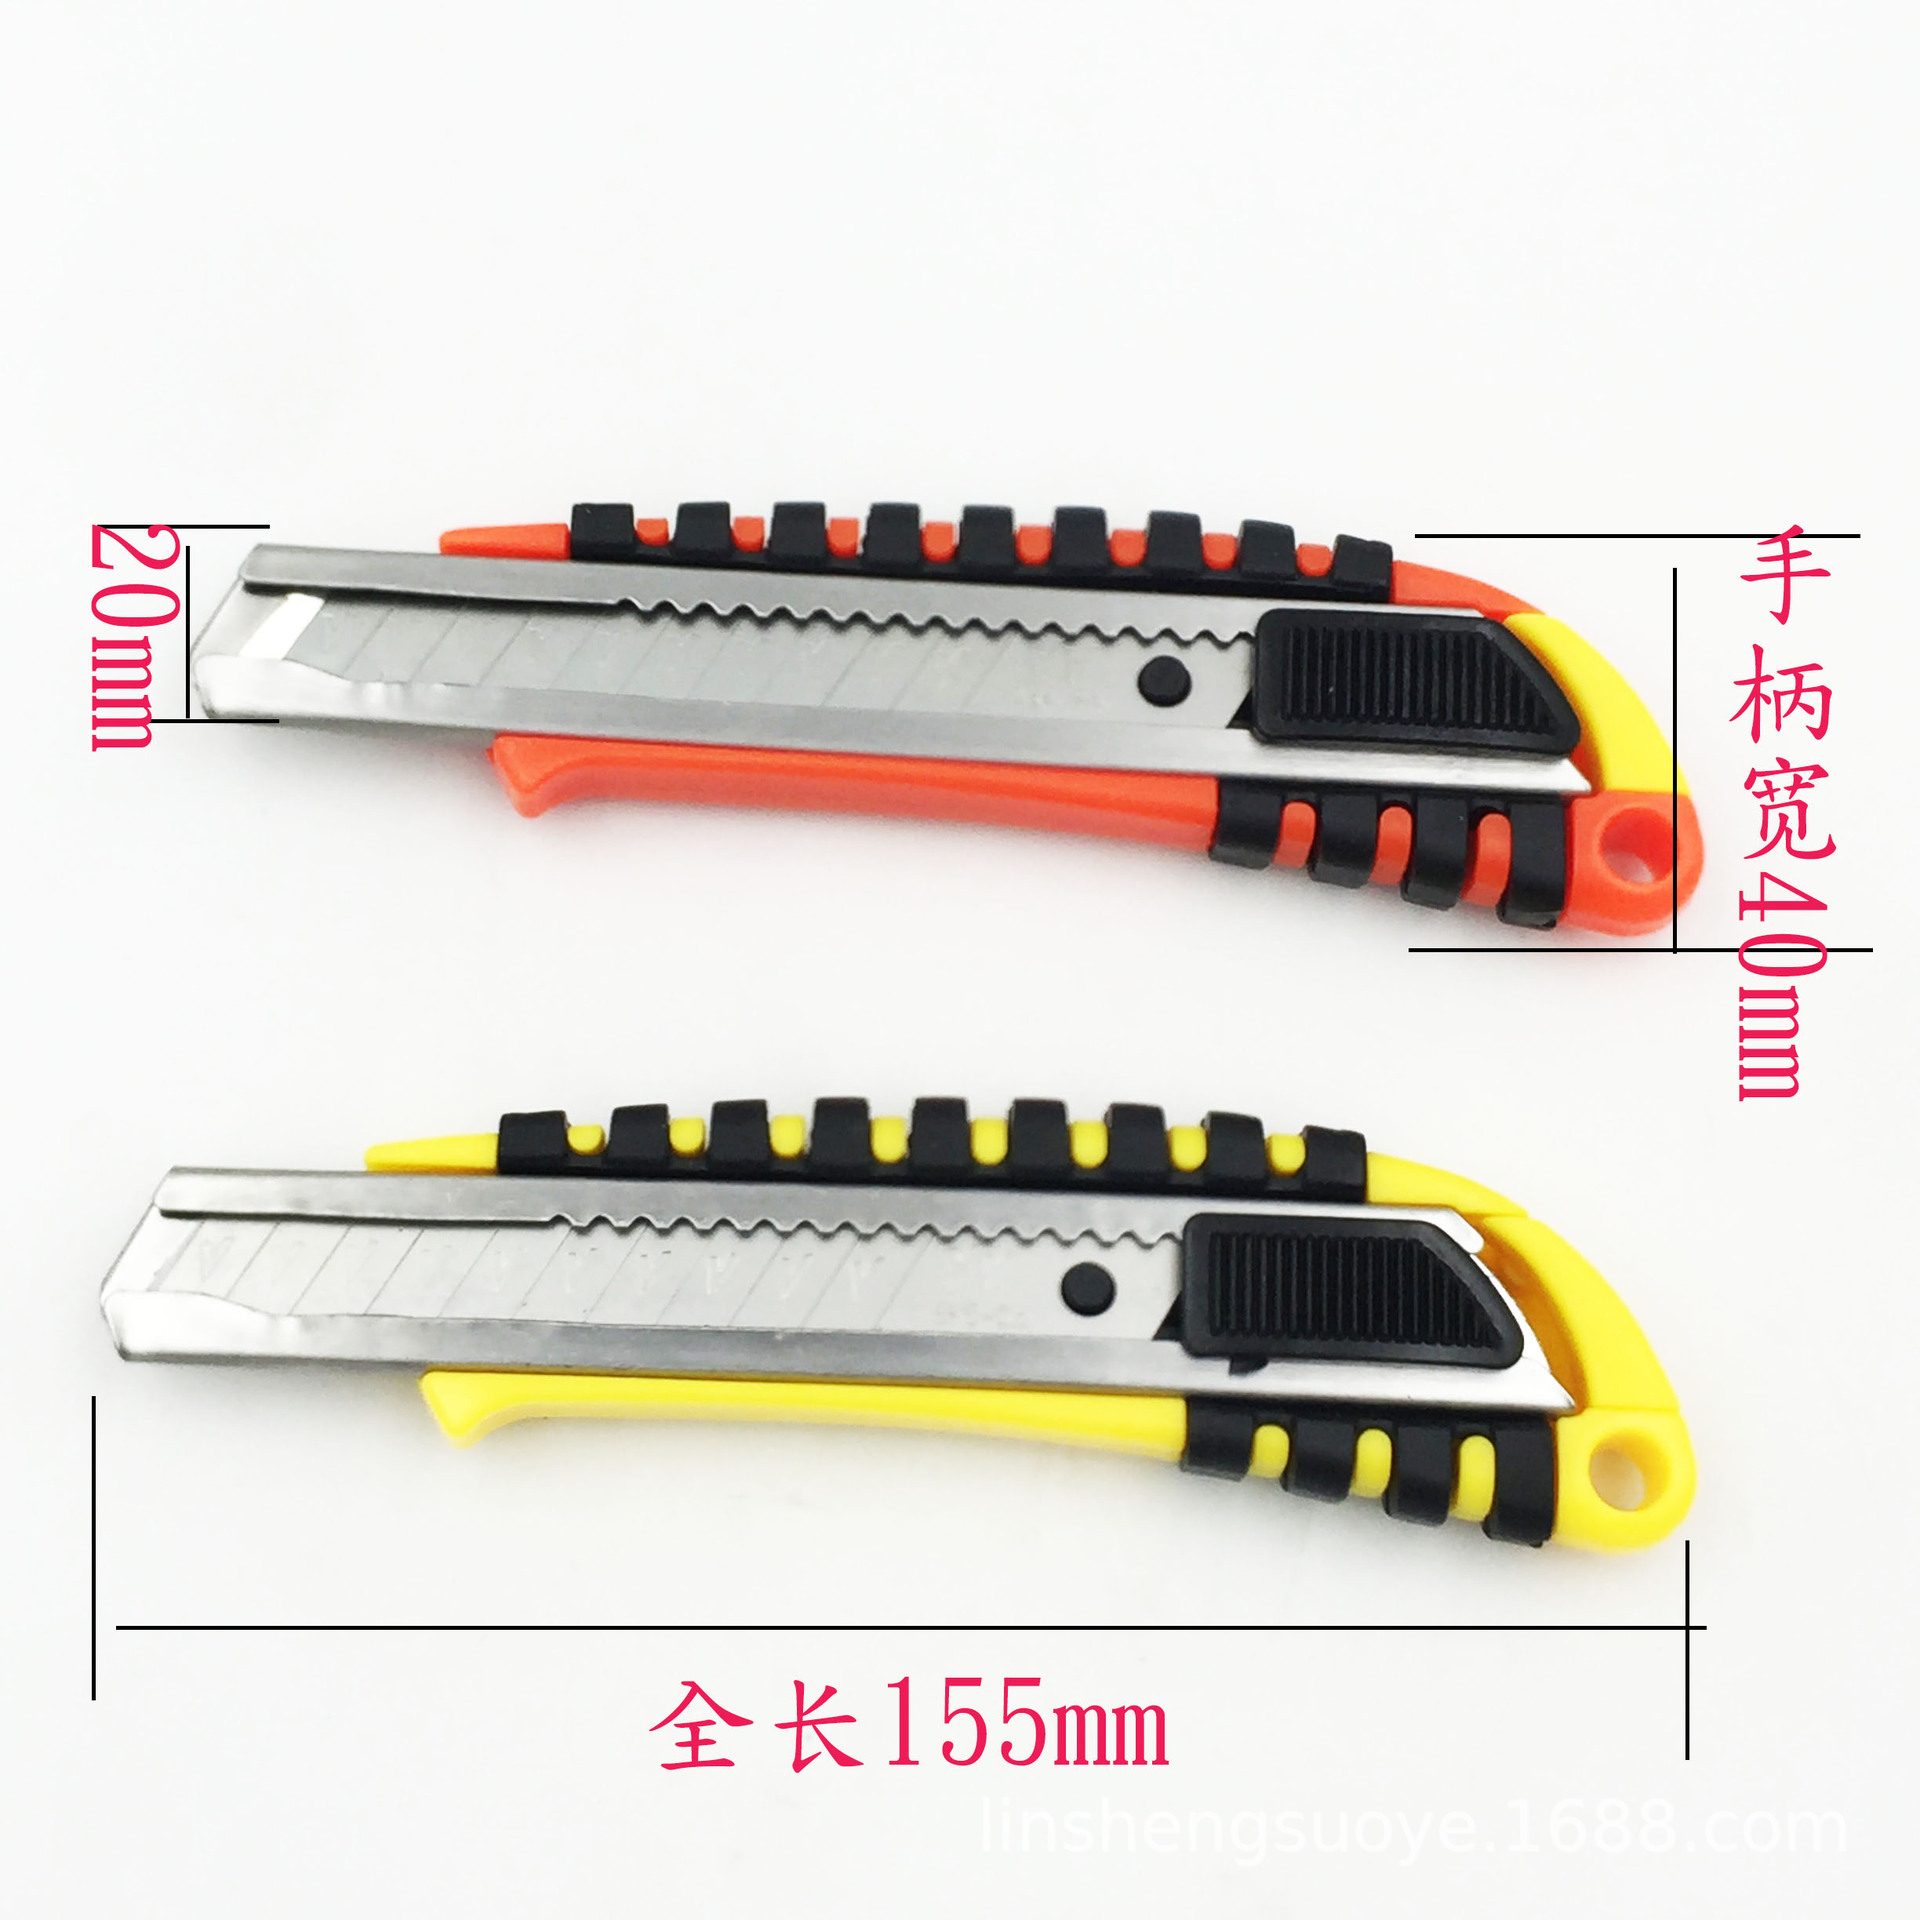cutter: (104, 1095, 1707, 1561), (185, 498, 1711, 942)
